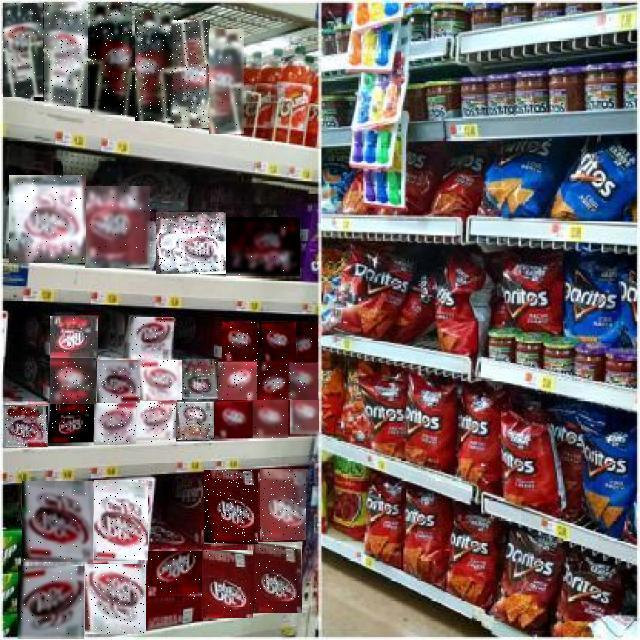Drinks: (9, 175, 86, 263), (22, 482, 93, 564), (86, 186, 152, 268), (19, 566, 85, 639), (91, 2, 133, 115), (44, 2, 88, 106), (226, 218, 300, 278), (136, 10, 176, 121), (156, 212, 226, 274), (94, 480, 148, 560), (85, 564, 146, 634), (205, 471, 259, 545), (175, 20, 211, 128), (210, 29, 246, 134), (3, 3, 43, 97), (202, 550, 253, 618), (255, 542, 303, 613), (260, 469, 306, 540), (149, 552, 203, 600), (50, 358, 96, 404), (51, 316, 99, 358), (48, 404, 94, 446), (97, 360, 140, 403), (4, 405, 48, 447), (135, 402, 177, 444), (138, 360, 182, 400), (131, 318, 174, 358), (93, 404, 136, 444), (180, 359, 218, 401), (222, 321, 261, 361), (218, 363, 257, 401), (259, 323, 296, 363), (177, 402, 214, 440), (215, 402, 254, 438), (258, 362, 294, 400), (254, 400, 290, 438), (290, 400, 319, 436), (293, 363, 319, 400), (297, 323, 319, 362)
